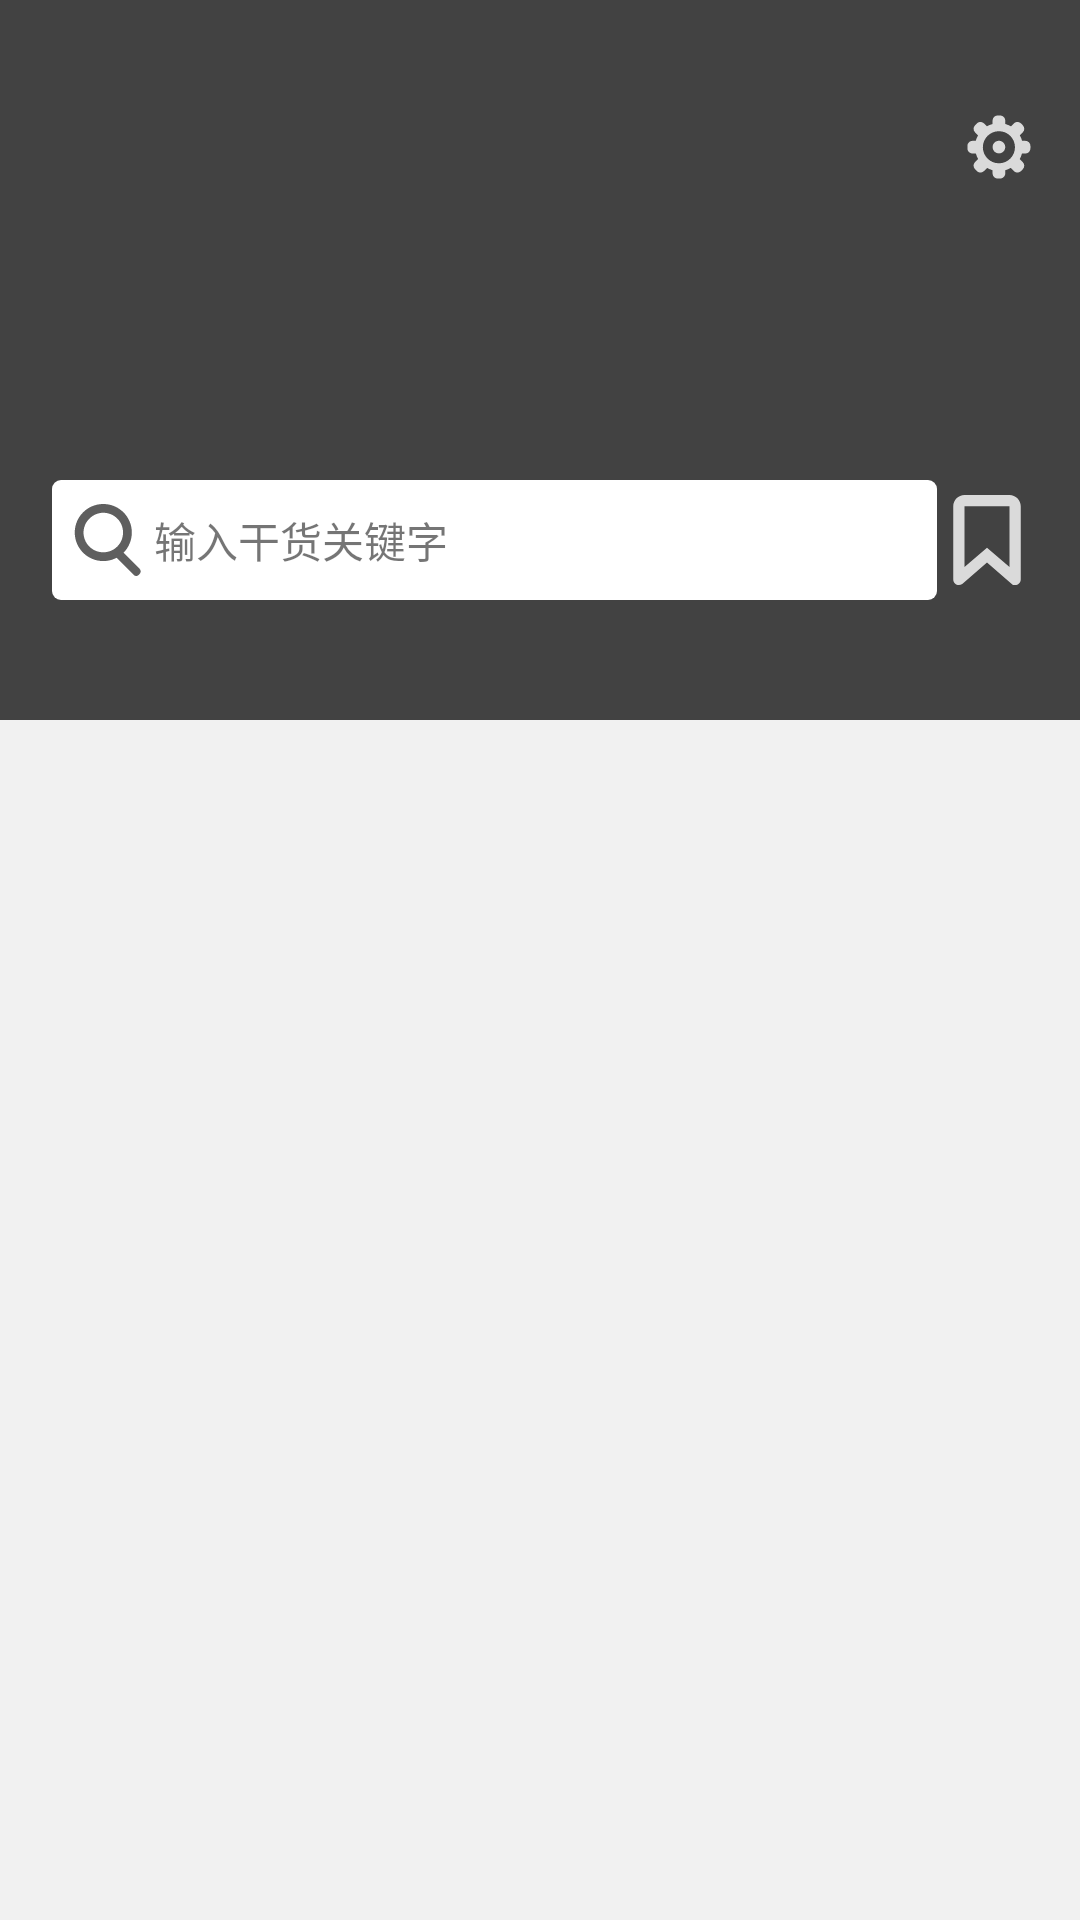

Named icons in this screenshot (1080 x 1920) and their centers, (x,y):
collection: (987,540)
search: (107,540)
setting: (999,147)
